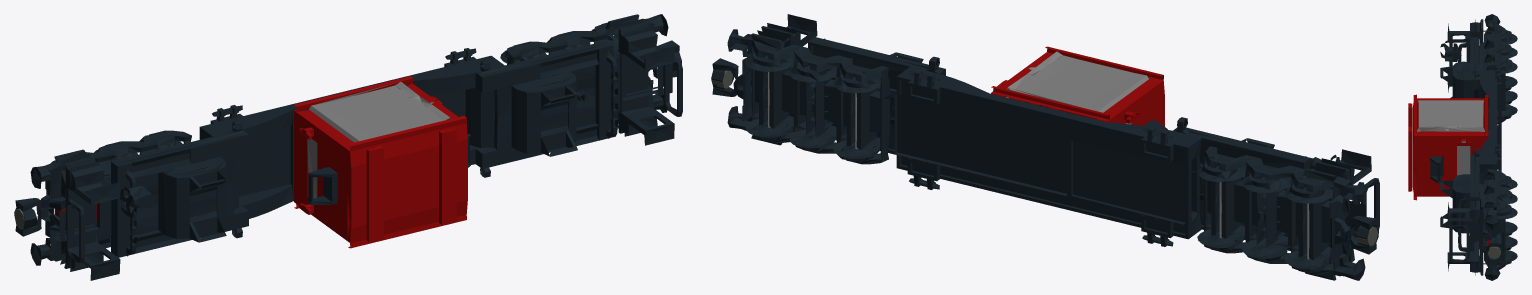
The model's file is flatcar-with-container.glb.
3 renders of one model, left to right at view 1: azimuth 30°, elevation 25°; view 2: azimuth 150°, elevation 25°; view 3: azimuth 270°, elevation 25°, orthographic. The views are drawn at different scales.
Size of the model in its own units: 360 by 60.18 by 78.82.
